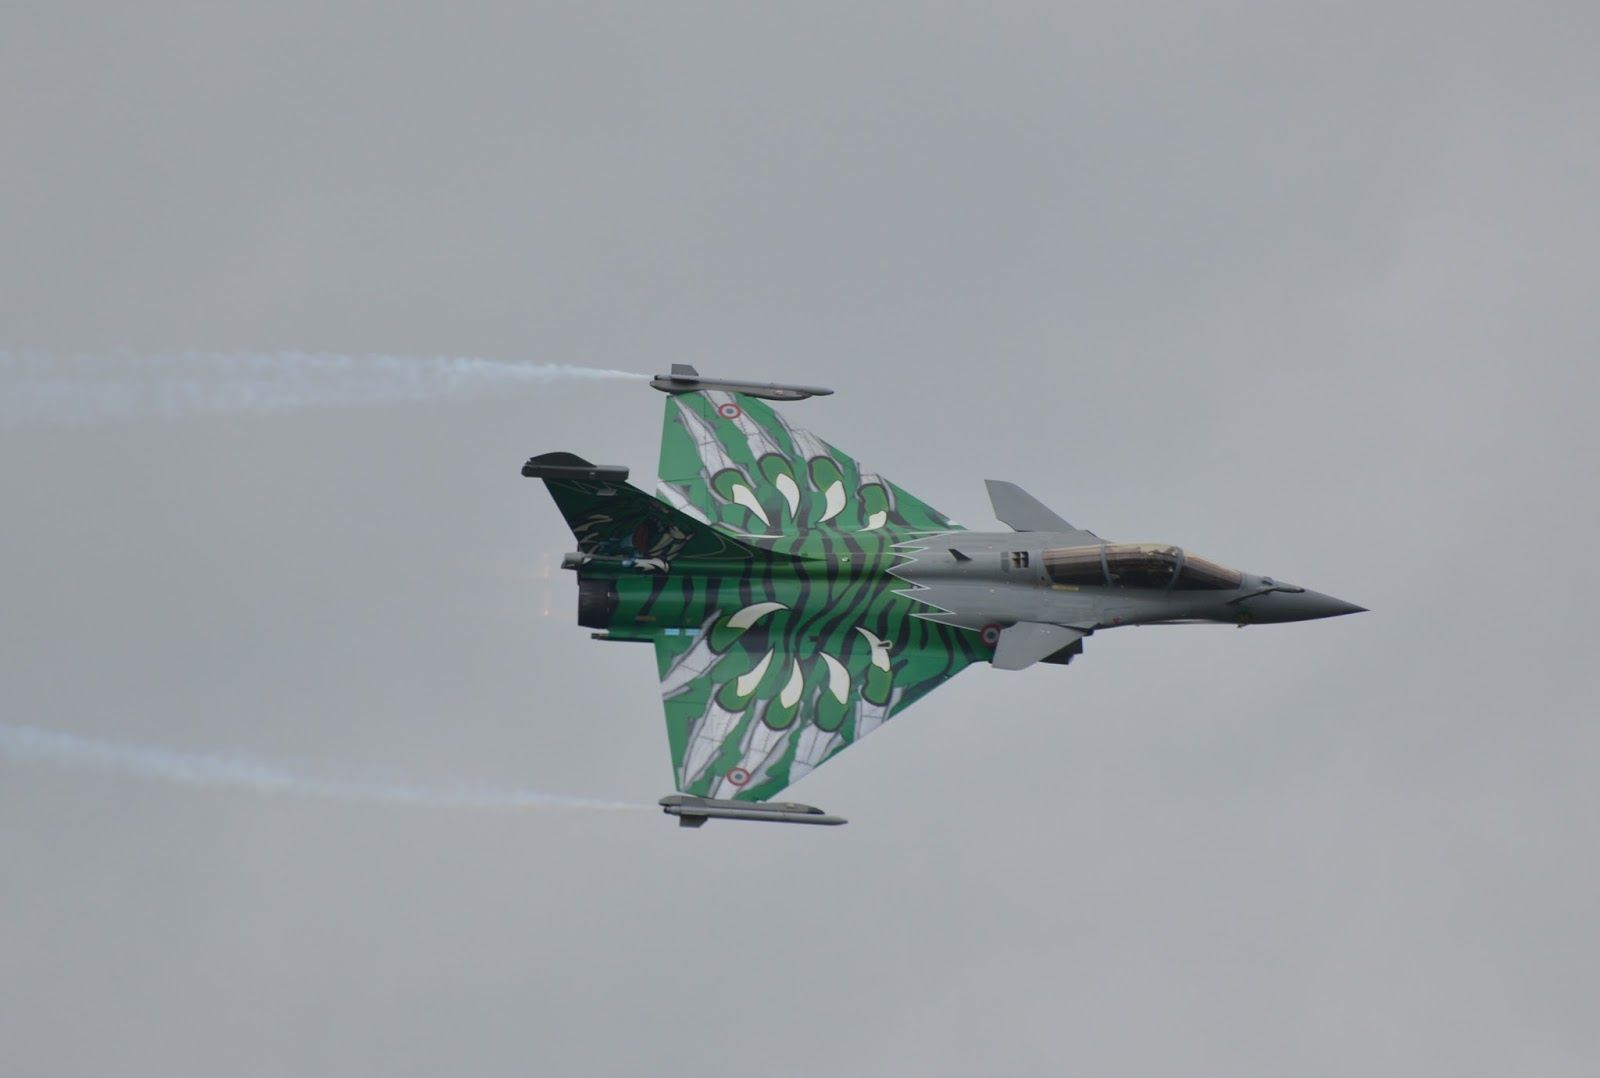JAS39: (521, 363, 1370, 828)
